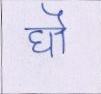au_matra: (47, 4, 71, 53)
